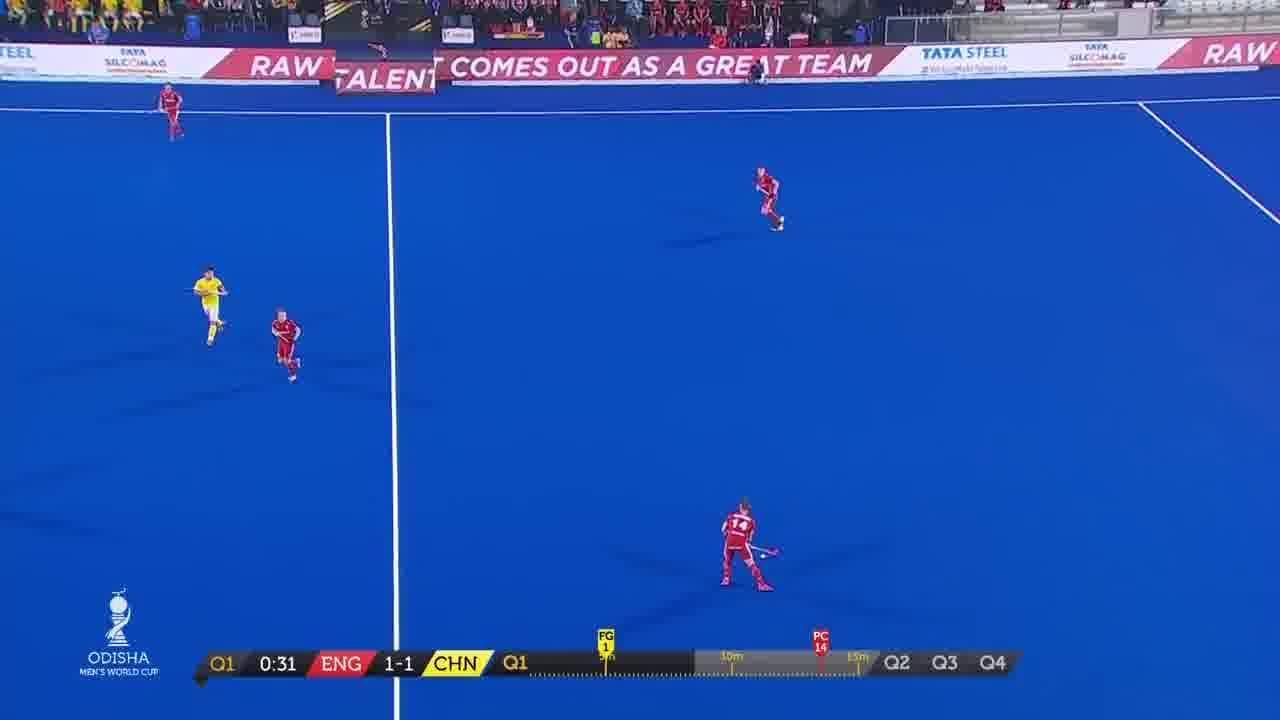ball: (759, 546, 770, 564)
